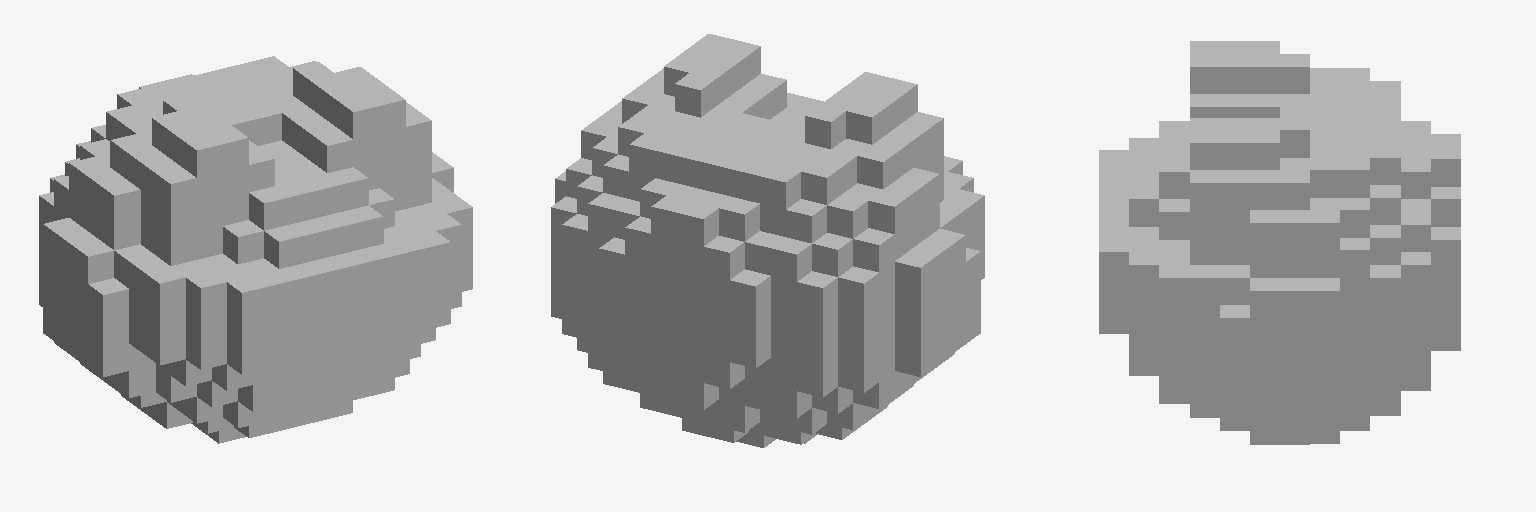
File: player-5.obj
The picture shows the model from 3 angles: view 1: azimuth 30°, elevation 25°; view 2: azimuth 150°, elevation 25°; view 3: azimuth 270°, elevation 25°; orthographic projection.
Visible parts, largest first — view 1: object 1; view 2: object 1; view 3: object 1.
Part boxes in pixels (x1,y1,x2,y2): object 1: (39,56,472,443); object 1: (551,34,984,447); object 1: (1099,41,1460,444).
Bounding box in the file's own units: 1.4 × 1.2 × 1.2.